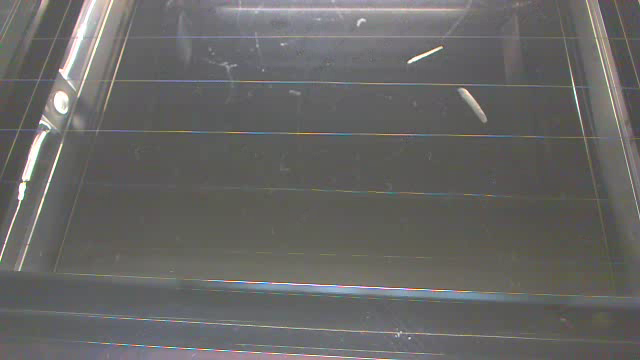alpha: (454, 81, 494, 130), (402, 40, 447, 72)
